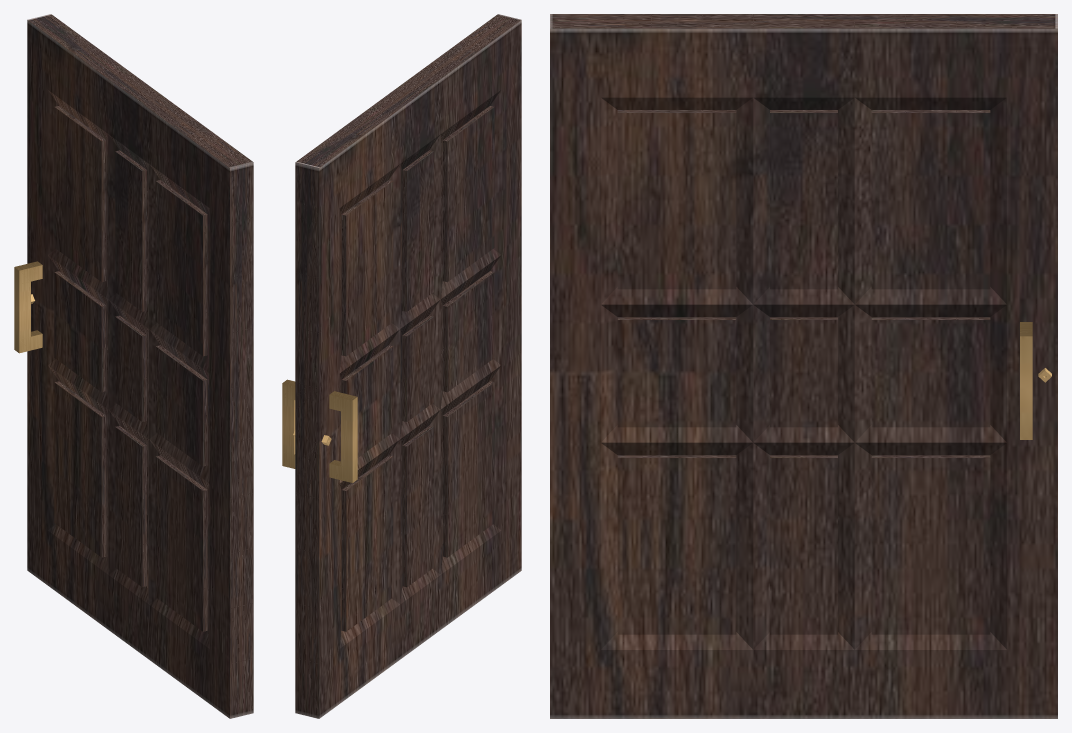
The model's file is Door001.FBX.
3 views of the same model, side by side, from view 1: azimuth 30°, elevation 25°; view 2: azimuth 150°, elevation 25°; view 3: azimuth 270°, elevation 25° (orthographic). The views are drawn at different scales.
Parts seen in each view (by area): view 1: Door001; view 2: Door001; view 3: Door001.
Part boxes in pixels (x1,y1,x2,y2): Door001: (14,14,253,718); Door001: (282,14,521,718); Door001: (550,14,1057,718).
Bounding box in the file's own units: 30.15 × 225 × 150.
